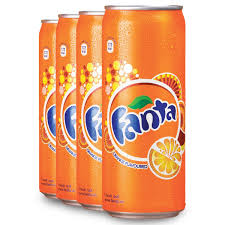fanta: (104, 5, 184, 217), (76, 12, 104, 209), (57, 14, 79, 205), (38, 20, 57, 198)
